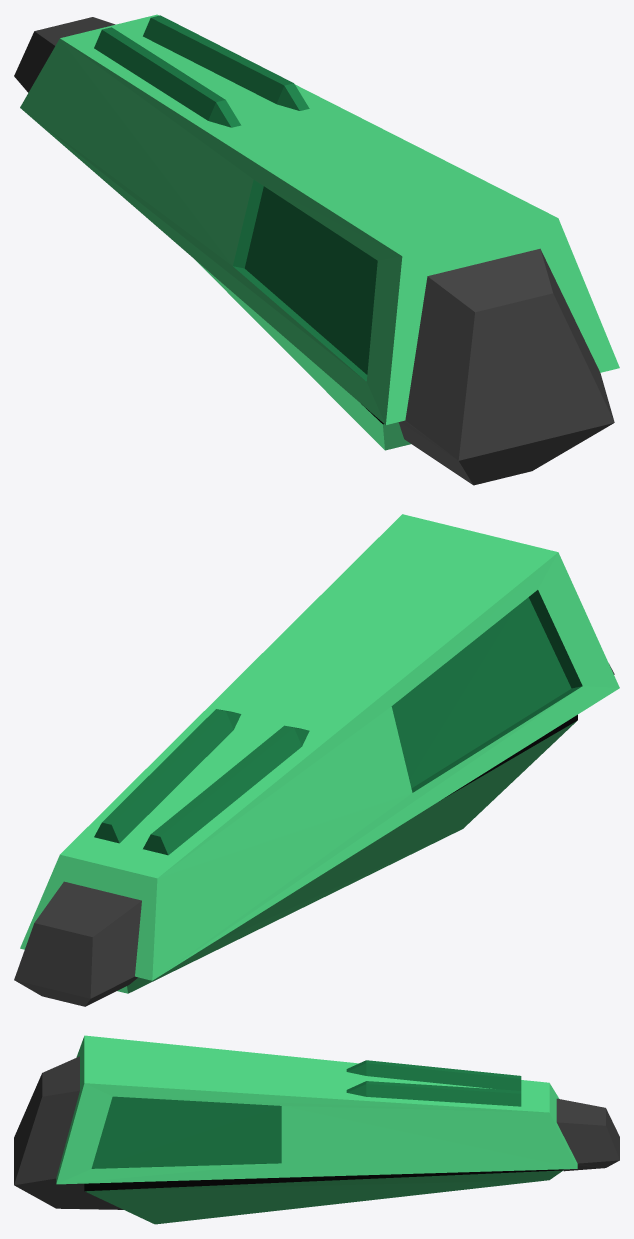
Rendered from Arm.FBX.
3 renders of one model, top to bottom at view 1: azimuth 30°, elevation 25°; view 2: azimuth 150°, elevation 25°; view 3: azimuth 270°, elevation 25°, orthographic. The views are drawn at different scales.
Visible parts, largest first — view 1: VIFS002, VIFS004, VIFS001; view 2: VIFS002, VIFS001, VIFS004; view 3: VIFS002, VIFS001, VIFS004, VIFS003.
Boxes of the visible parts, x1,y1,x2,y2 form: VIFS002: (20, 14, 619, 450); VIFS004: (14, 17, 614, 485); VIFS001: (94, 15, 377, 381); VIFS002: (20, 514, 619, 993); VIFS001: (94, 590, 582, 855); VIFS004: (14, 664, 614, 1006); VIFS002: (56, 1035, 577, 1224); VIFS001: (91, 1060, 521, 1168); VIFS004: (14, 1056, 619, 1209); VIFS003: (84, 1169, 563, 1191).
Size of the model in its own units: 0.336 by 0.336 by 1.2.
